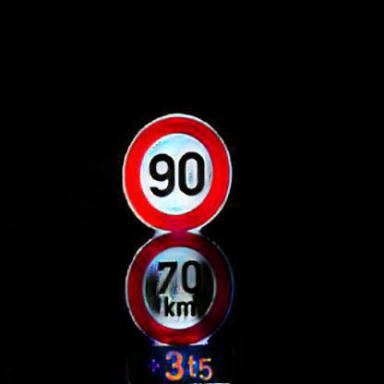Speed_limit_90: (123, 115, 229, 229)
